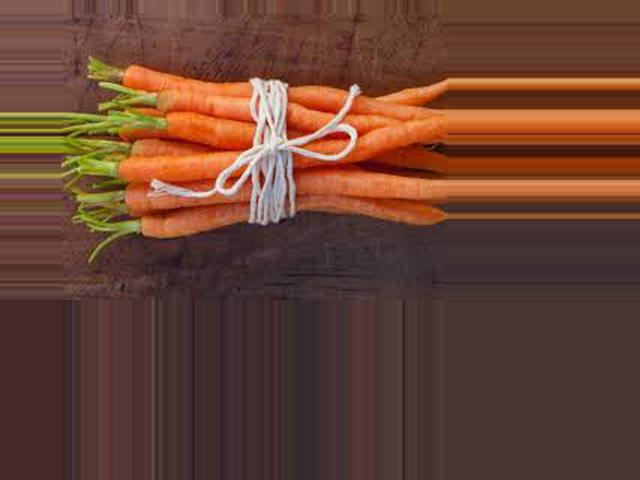carrot: (105, 201, 444, 246)
